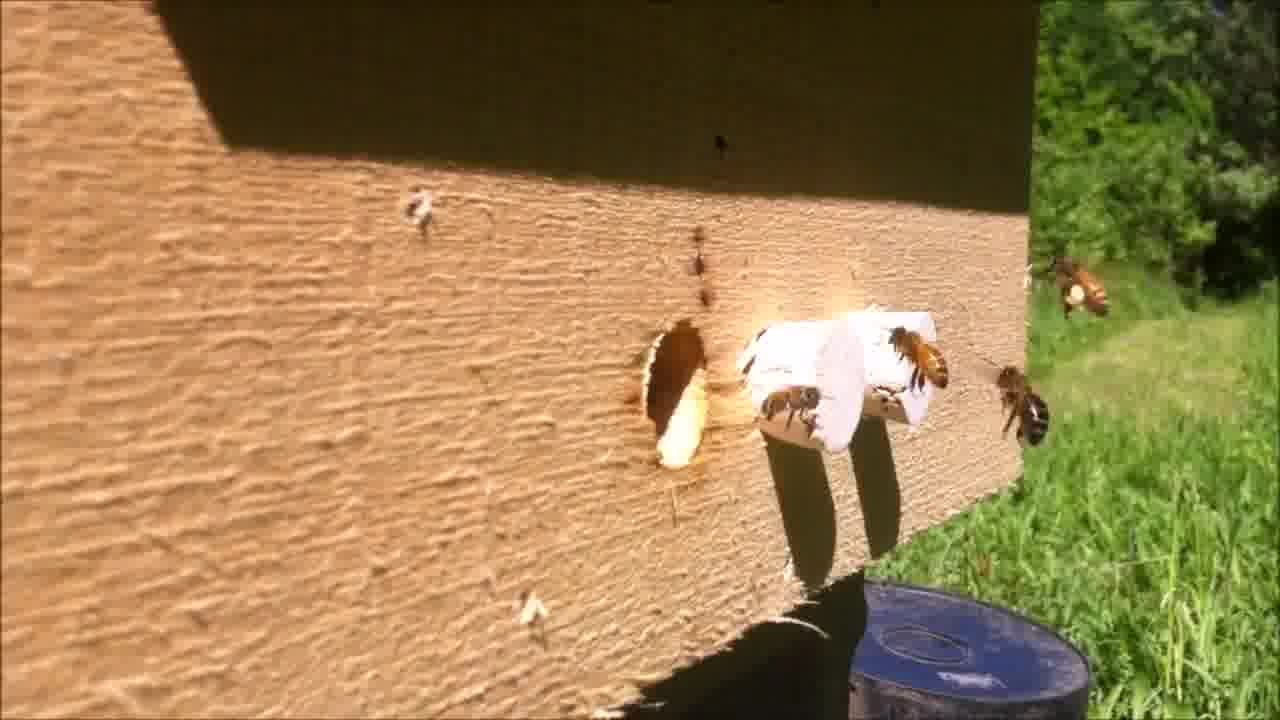pollen: (1040, 254, 1119, 322)
